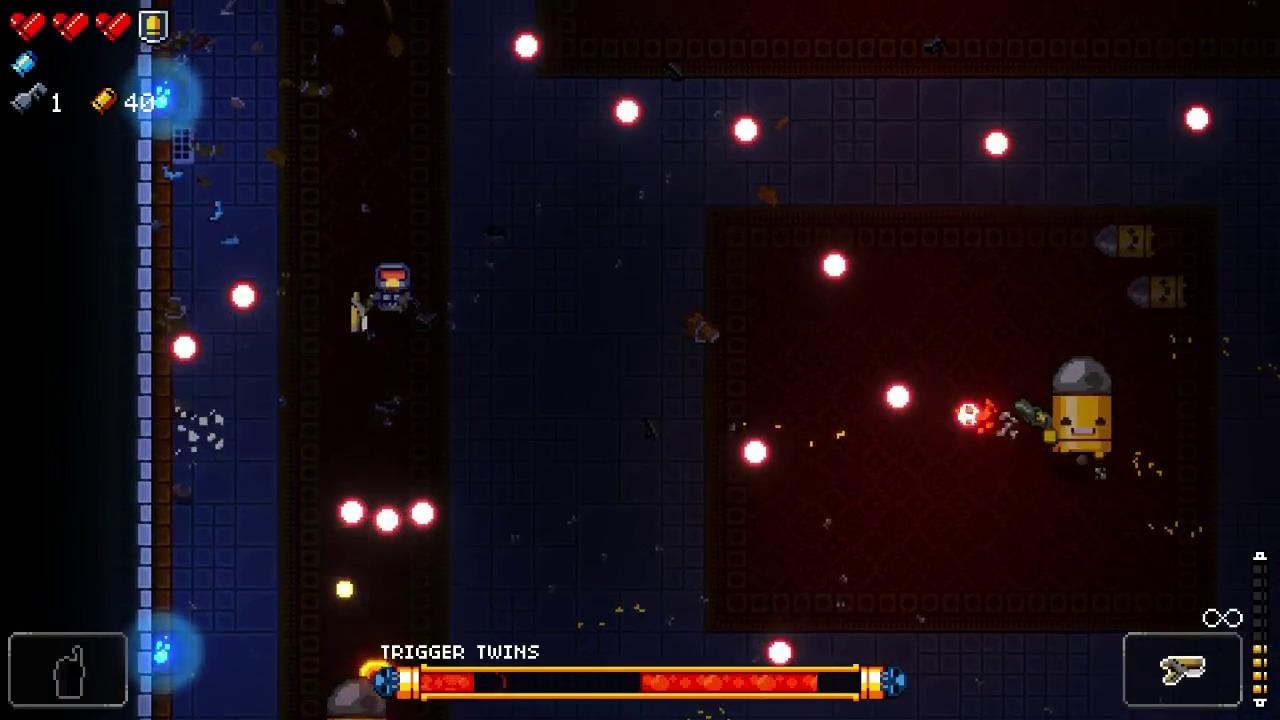boss_smiley: (1052, 359, 1113, 459)
bullet: (738, 436, 772, 469), (763, 634, 795, 667), (882, 383, 914, 415), (1182, 103, 1213, 136), (335, 497, 367, 528), (613, 94, 642, 127), (511, 31, 541, 62), (983, 130, 1013, 160), (374, 507, 403, 538), (229, 282, 259, 311), (822, 252, 850, 283), (169, 333, 199, 361), (732, 113, 759, 144), (410, 501, 438, 529)
dead_bullet_kin: (1124, 274, 1189, 312), (1091, 225, 1157, 259)
player: (372, 262, 413, 312)
